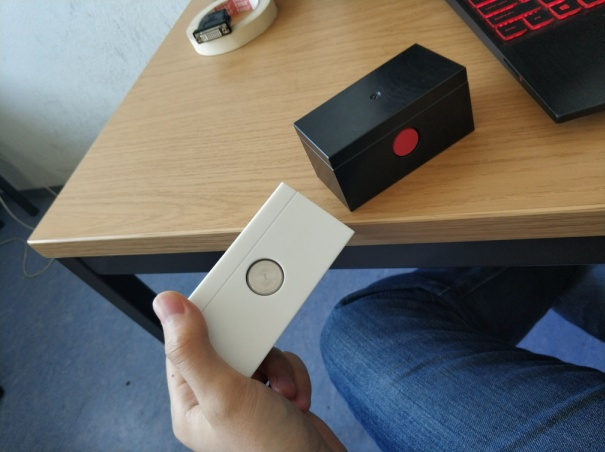black+black+red: (290, 40, 476, 212)
white+white+silver: (184, 181, 357, 380)
